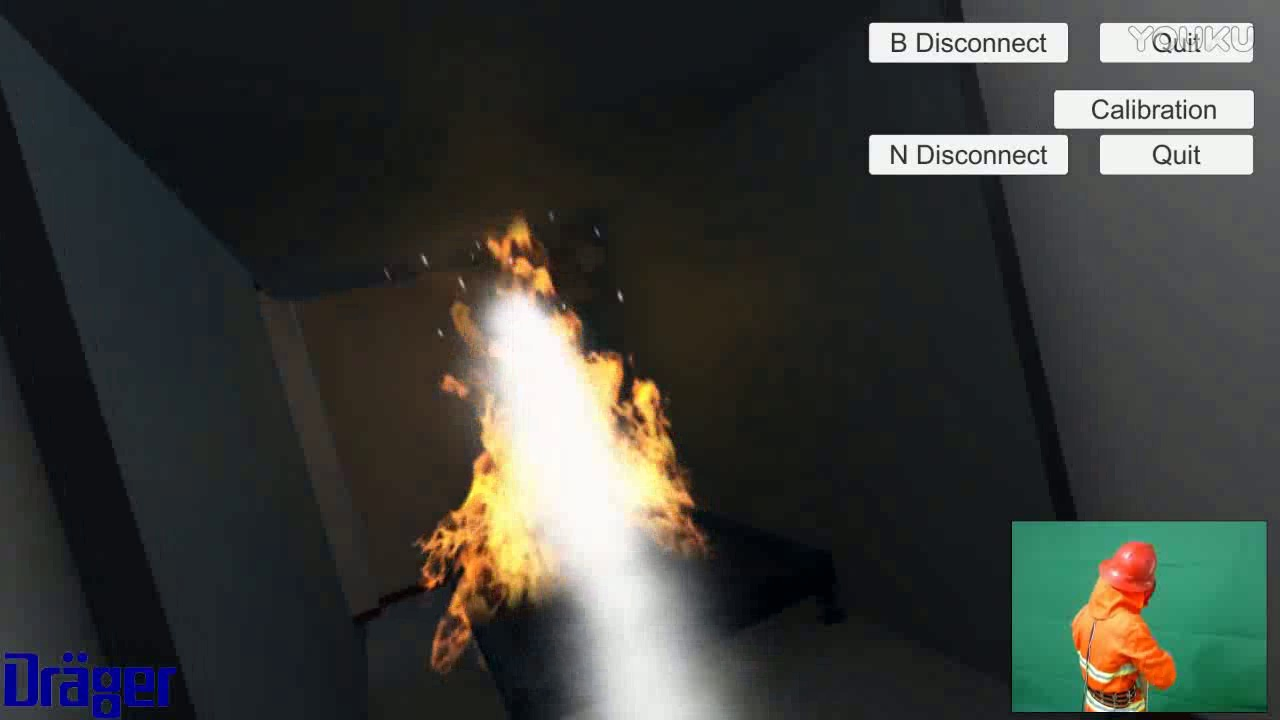fire: (392, 231, 721, 659)
